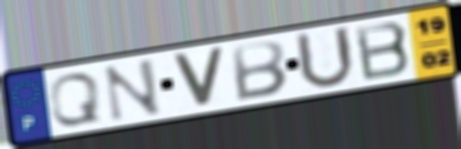B: (352, 19, 414, 84), (230, 38, 290, 103)
N: (101, 56, 165, 124)
Q: (47, 71, 104, 128)
U: (292, 24, 359, 92)
V: (169, 46, 228, 109)
